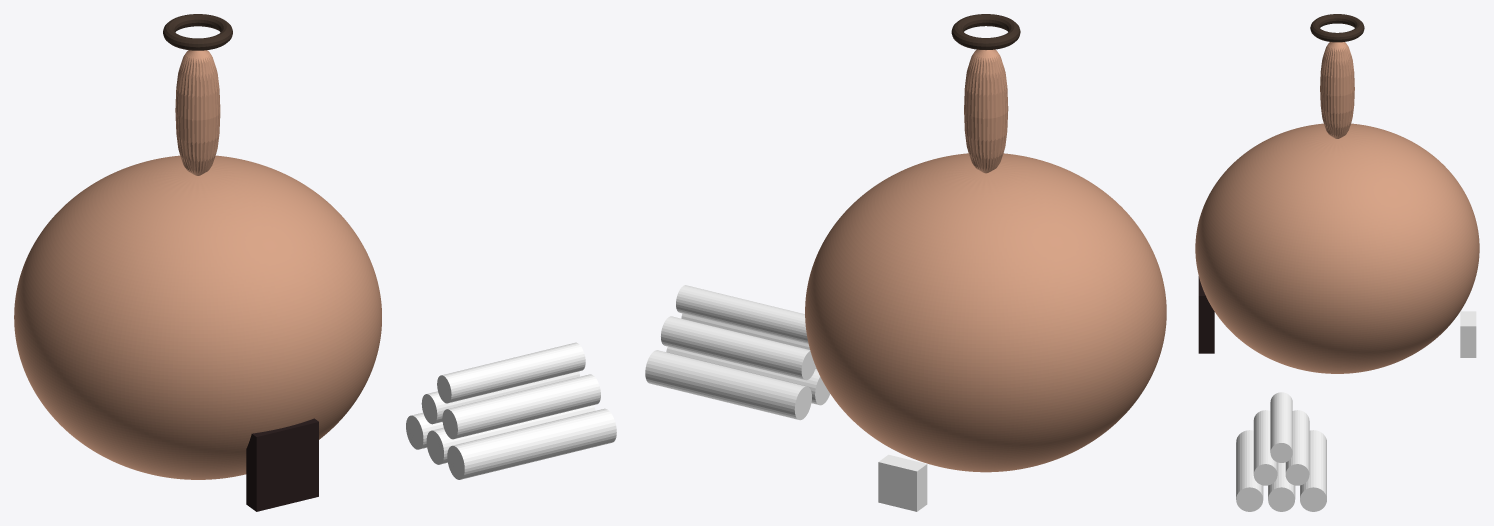
Rendered from lqv_house_tatakua.glb.
The picture shows the model from 3 angles, left to right: view 1: azimuth 30°, elevation 25°; view 2: azimuth 150°, elevation 25°; view 3: azimuth 270°, elevation 25°; orthographic projection. The views are drawn at different scales.
Parts seen in each view (by area): view 1: Tatakua, TatakuaFirewood_0, TatakuaMouth, TatakuaFirewood_3, TatakuaChimney, TatakuaFirewood_5, TatakuaChimneyLip, TatakuaFirewood_1, TatakuaFirewood_4, TatakuaFirewood_2; view 2: Tatakua, TatakuaFirewood_2, TatakuaFirewood_4, TatakuaChimney, TatakuaFirewood_5, TatakuaAshDoor, TatakuaChimneyLip, TatakuaFirewood_1, TatakuaFirewood_3; view 3: Tatakua, TatakuaChimney, TatakuaFirewood_0, TatakuaFirewood_2, TatakuaFirewood_5, TatakuaFirewood_4, TatakuaFirewood_3, TatakuaChimneyLip, TatakuaMouth, TatakuaFirewood_1, TatakuaAshDoor.
Part boxes in pixels (<box>): Tatakua: <box>14,155,381,479</box>; TatakuaFirewood_0: <box>447,408,616,479</box>; TatakuaMouth: <box>246,418,318,511</box>; TatakuaFirewood_3: <box>442,374,600,439</box>; TatakuaChimney: <box>175,50,220,175</box>; TatakuaFirewood_5: <box>437,342,585,403</box>; TatakuaChimneyLip: <box>163,14,232,50</box>; TatakuaFirewood_1: <box>426,405,595,464</box>; TatakuaFirewood_4: <box>421,371,579,424</box>; TatakuaFirewood_2: <box>406,412,443,449</box>; Tatakua: <box>805,153,1166,472</box>; TatakuaFirewood_2: <box>645,350,811,420</box>; TatakuaFirewood_4: <box>661,316,815,380</box>; TatakuaChimney: <box>964,49,1008,173</box>; TatakuaFirewood_5: <box>676,285,808,343</box>; TatakuaAshDoor: <box>878,454,927,511</box>; TatakuaChimneyLip: <box>951,14,1020,49</box>; TatakuaFirewood_1: <box>666,346,829,405</box>; TatakuaFirewood_3: <box>681,313,809,349</box>; Tatakua: <box>1195,123,1479,373</box>; TatakuaChimney: <box>1320,42,1354,138</box>; TatakuaFirewood_0: <box>1236,430,1263,511</box>; TatakuaFirewood_2: <box>1300,430,1326,511</box>; TatakuaFirewood_5: <box>1270,392,1292,462</box>; TatakuaFirewood_4: <box>1285,410,1309,485</box>; TatakuaFirewood_3: <box>1253,410,1277,485</box>; TatakuaChimneyLip: <box>1310,14,1364,42</box>; TatakuaMouth: <box>1198,276,1214,353</box>; TatakuaFirewood_1: <box>1268,462,1295,511</box>; TatakuaAshDoor: <box>1460,311,1476,357</box>.
Bounding box in the file's own units: 2.86 × 2.46 × 1.78.
